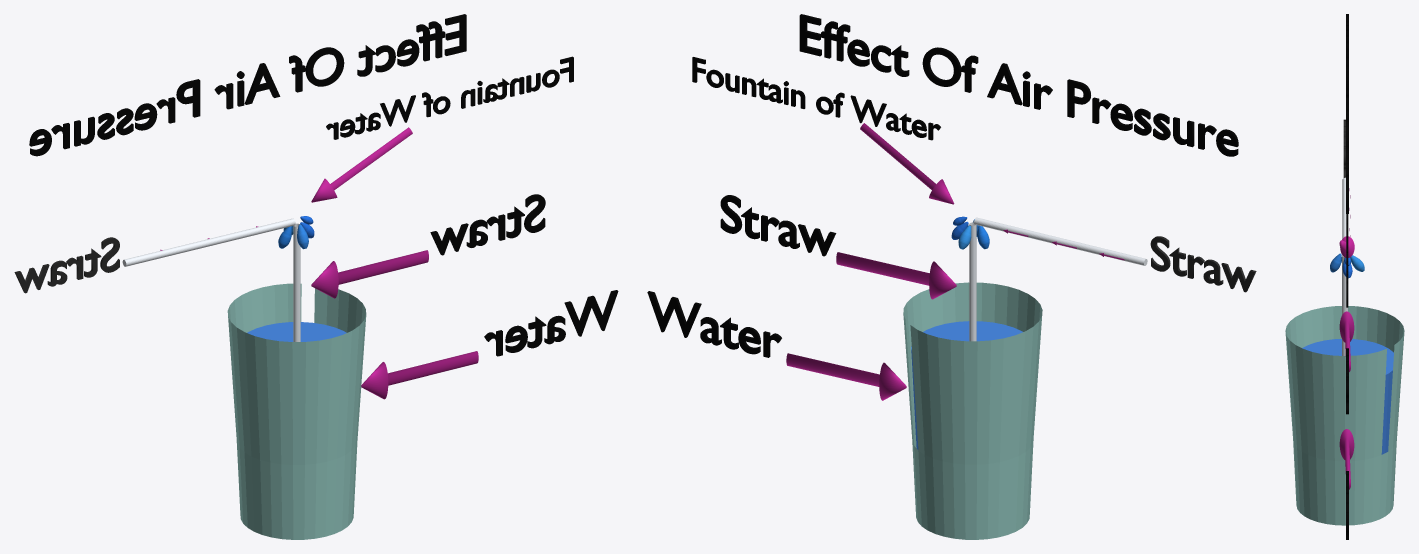
Rendered from Effect Of Air Pressure.gltf.
3 views of the same model, side by side, from view 1: azimuth 30°, elevation 25°; view 2: azimuth 150°, elevation 25°; view 3: azimuth 270°, elevation 25° (orthographic). The views are drawn at different scales.
Parts seen in each view (by area): view 1: Cylinder, Text.003, Text.001, Text.002, Text, Text.004, Cylinder.008, Cylinder.006, Cylinder.009, Cylinder.007, Cylinder.001; view 2: Cylinder, Text.003, Text.001, Text.002, Text, Cylinder.008, Cylinder.006, Text.004, Cylinder.009, Cylinder.007, Cylinder.001; view 3: Cylinder, Text.003, Cylinder.008, Cylinder.006, Cylinder.001, Text.001, Cylinder.009, Cylinder.007, Text.002, Text, Text.004.
Part boxes in pixels (<box>): Cylinder: <box>227,283,366,539</box>; Text.003: <box>29,14,466,156</box>; Text.001: <box>326,56,573,139</box>; Text.002: <box>484,290,618,356</box>; Text: <box>430,194,545,255</box>; Text.004: <box>14,237,119,293</box>; Cylinder.008: <box>361,351,478,399</box>; Cylinder.006: <box>311,250,428,298</box>; Cylinder.009: <box>122,218,295,266</box>; Cylinder.007: <box>311,127,412,202</box>; Cylinder.001: <box>293,223,300,341</box>; Cylinder: <box>903,282,1042,539</box>; Text.003: <box>799,14,1238,156</box>; Text.001: <box>692,57,940,140</box>; Text.002: <box>647,291,781,357</box>; Text: <box>720,195,836,256</box>; Cylinder.008: <box>786,353,906,400</box>; Cylinder.006: <box>836,252,956,299</box>; Text.004: <box>1150,236,1256,292</box>; Cylinder.009: <box>974,217,1147,265</box>; Cylinder.007: <box>860,123,954,204</box>; Cylinder.001: <box>969,222,976,341</box>; Cylinder: <box>1285,306,1404,525</box>; Text.003: <box>1346,14,1348,213</box>; Cylinder.008: <box>1339,429,1354,489</box>; Cylinder.006: <box>1339,311,1354,371</box>; Cylinder.001: <box>1342,255,1347,355</box>; Text.001: <box>1346,214,1348,307</box>; Cylinder.009: <box>1342,177,1346,238</box>; Cylinder.007: <box>1339,236,1354,257</box>; Text.002: <box>1346,471,1348,539</box>; Text: <box>1346,348,1348,414</box>; Text.004: <box>1343,119,1345,177</box>.
Size of the model in its own units: 2.74 by 1.99 by 0.5469.
